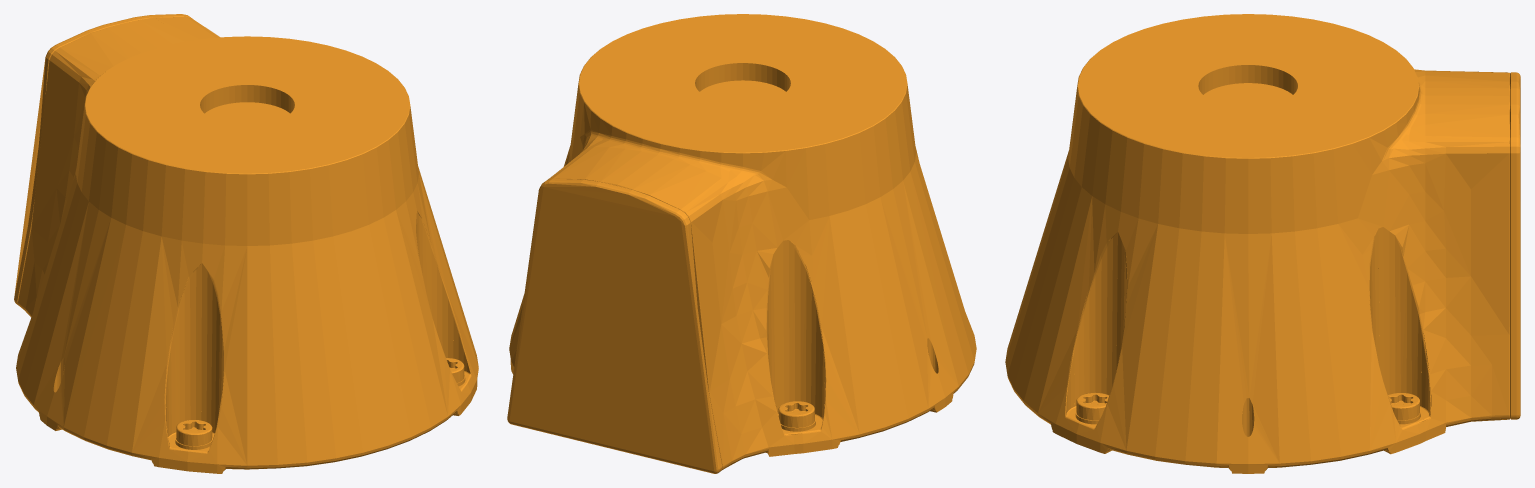
Rendered from KukaLBRiiwa14Link0.dae.
The picture shows the model from 3 angles, left to right: view 1: azimuth 30°, elevation 25°; view 2: azimuth 150°, elevation 25°; view 3: azimuth 270°, elevation 25°; orthographic projection. The views are drawn at different scales.
Visible parts, largest first — view 1: IIWA14Link0; view 2: IIWA14Link0; view 3: IIWA14Link0.
Part boxes in pixels (x1,y1,x2,y2): IIWA14Link0: [14, 14, 478, 473]; IIWA14Link0: [507, 14, 976, 473]; IIWA14Link0: [1005, 14, 1520, 473].
Size of the model in its own units: 0.2429 by 0.2577 by 0.1575.
